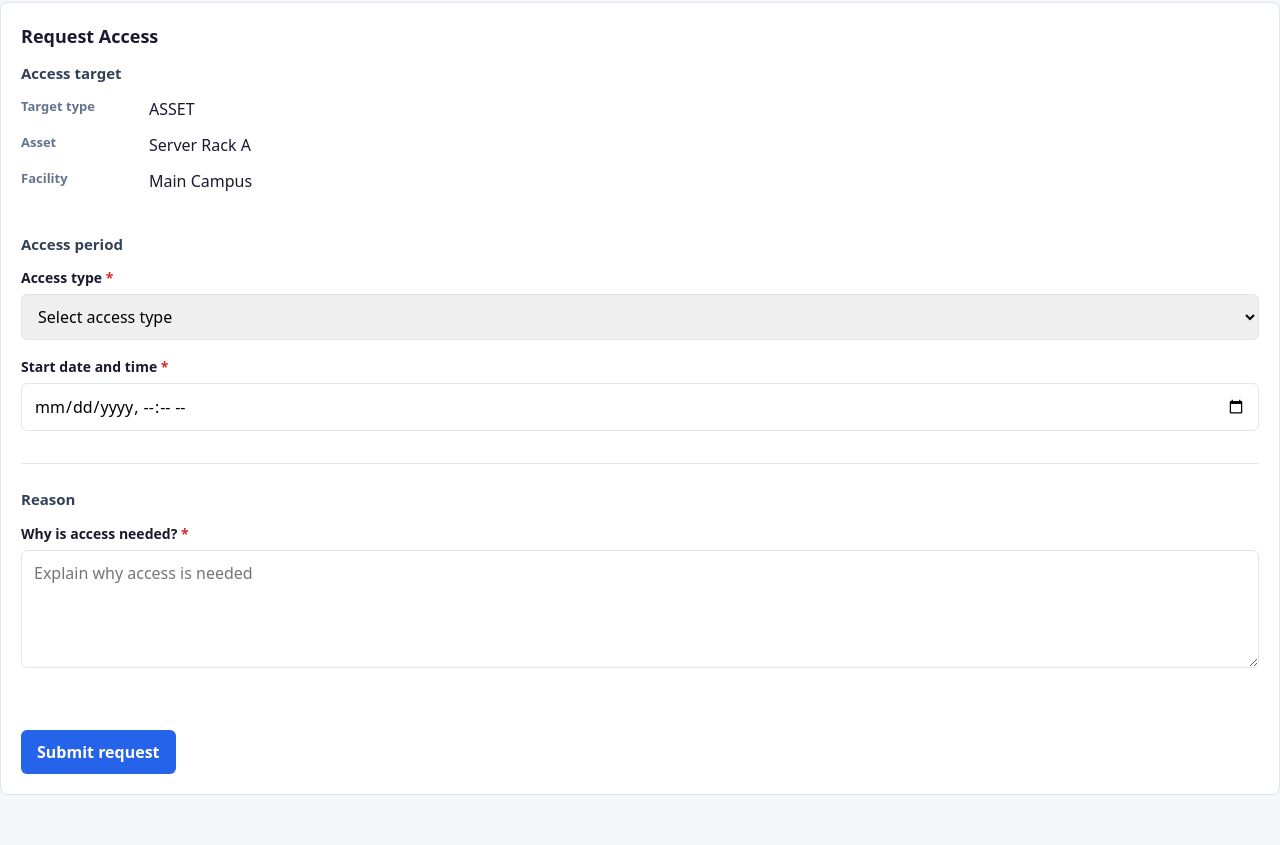
it: Access request form › temporary access requires end date
Select "Temporary" in the dropdown labelled "Access type *" at point(640, 317), box x1=21 y1=294 x2=1259 y2=340
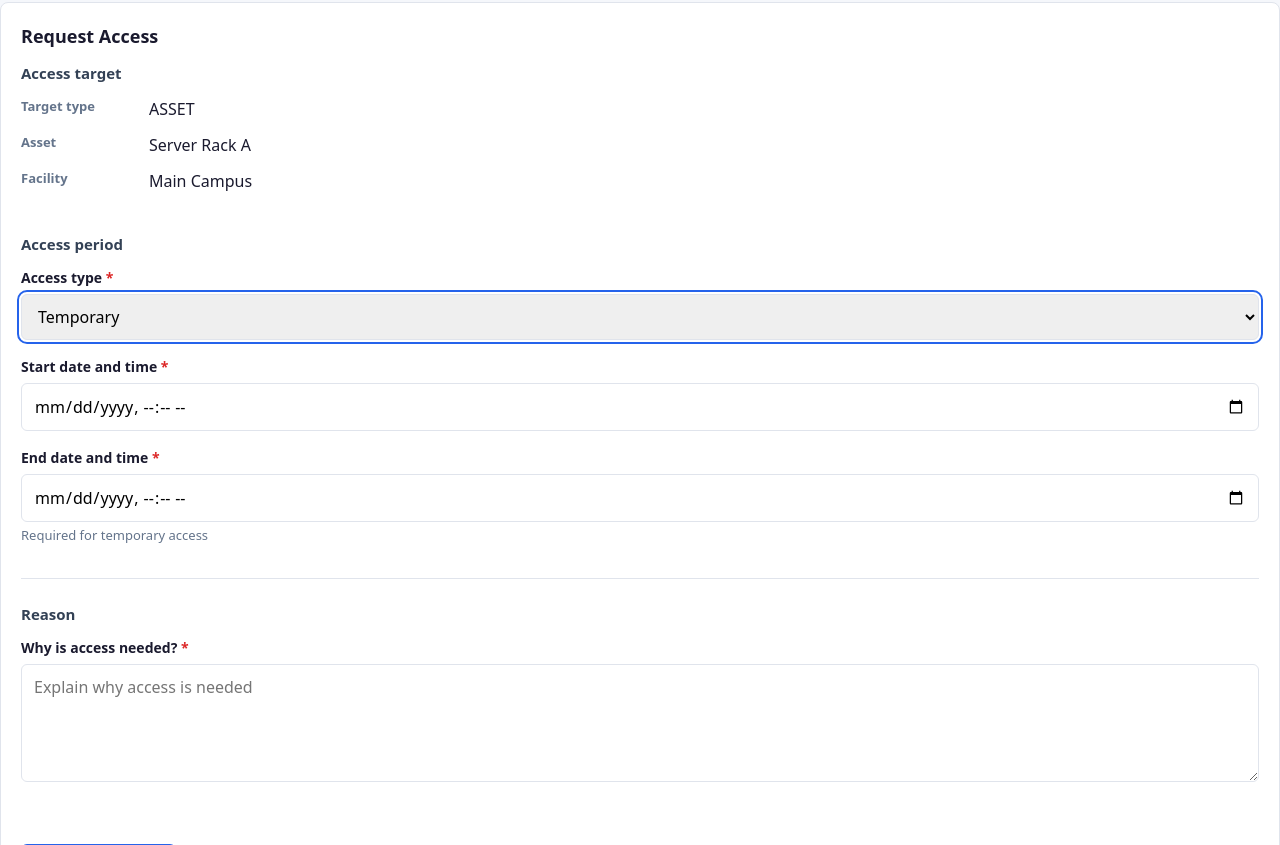
Type "Need access for maintenance" into the text box labelled "Why is access needed? *".
click(640, 723); type("Need access for maintenance")  # box x1=21 y1=664 x2=1259 y2=782
(page scrolled)
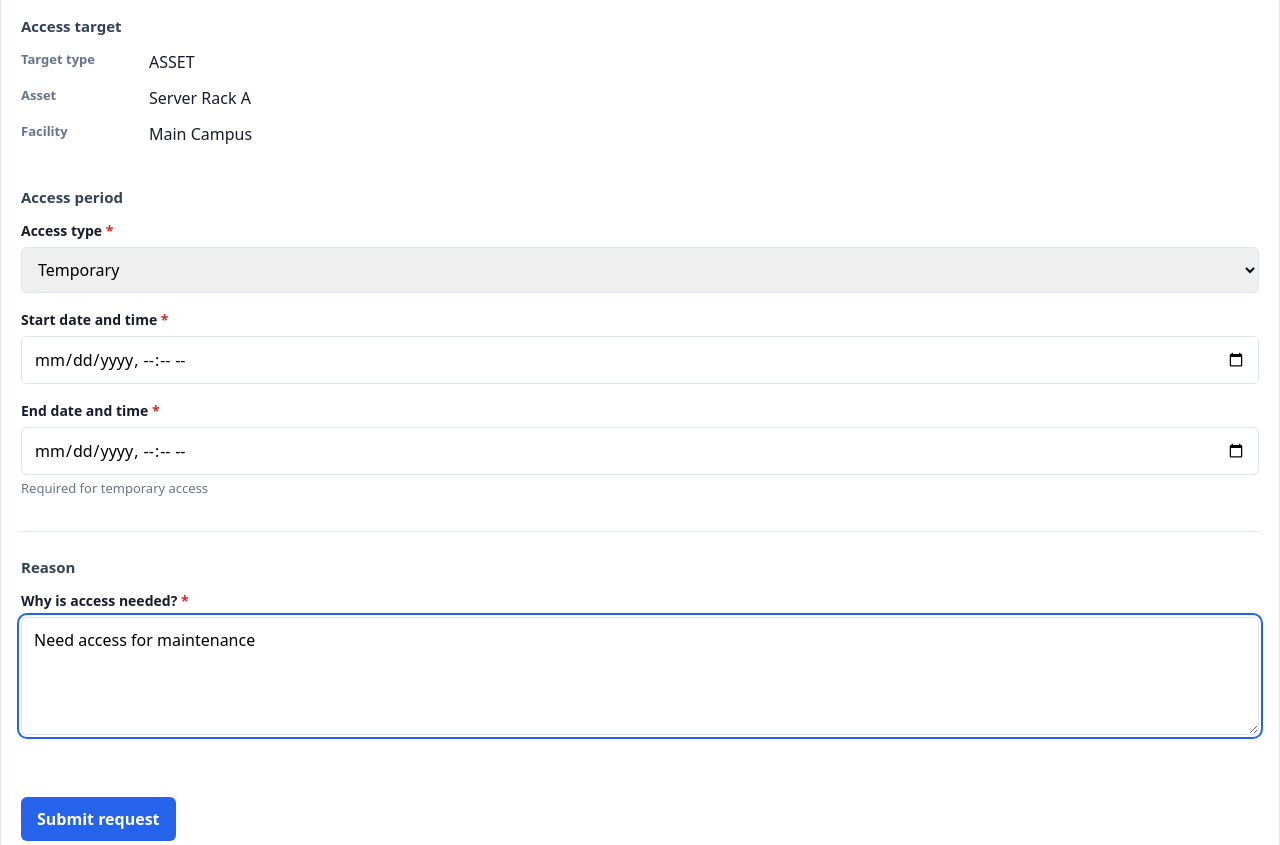
Click the button "Submit request".
click(98, 819)  # box x1=21 y1=797 x2=176 y2=841
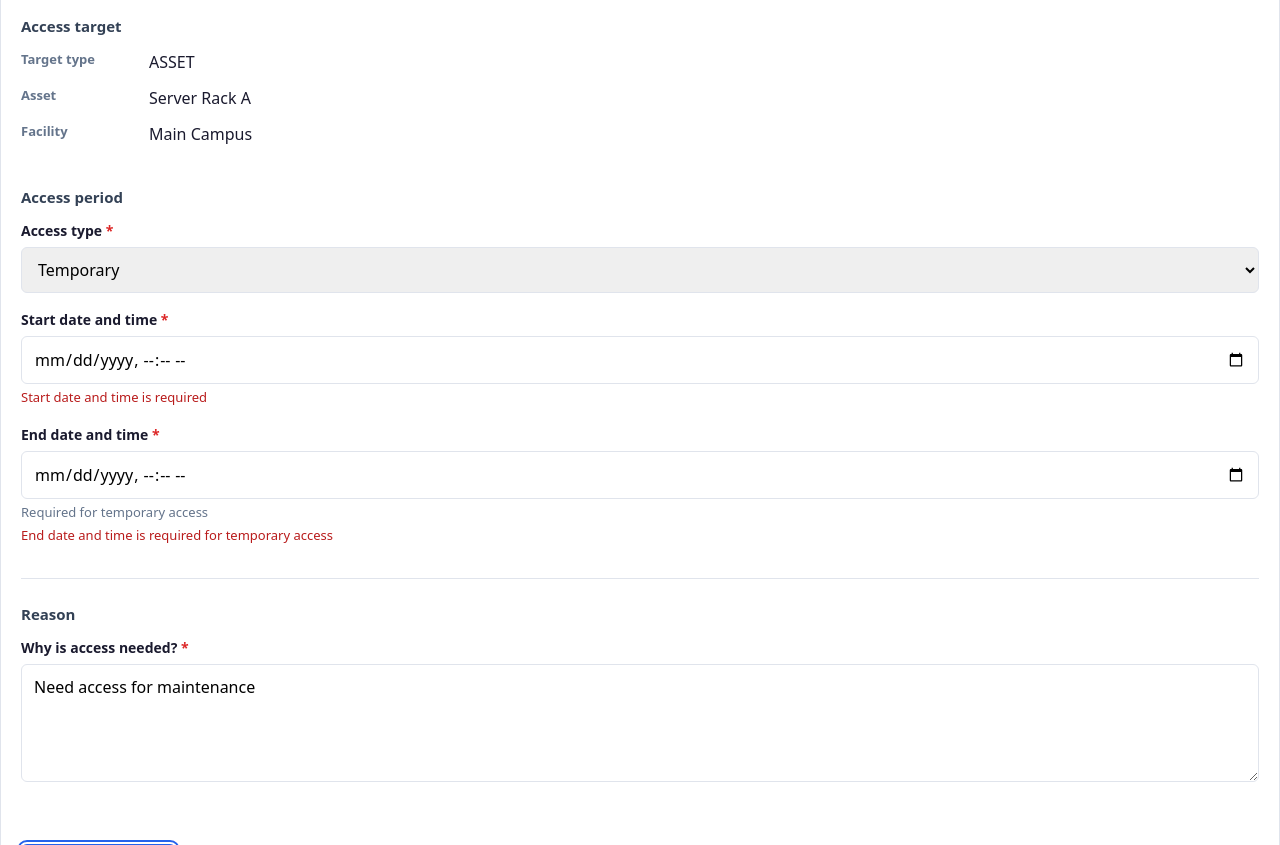
Expected: the text "End date and time is required for temporary access" is shown, x1=21 y1=526 x2=333 y2=544
